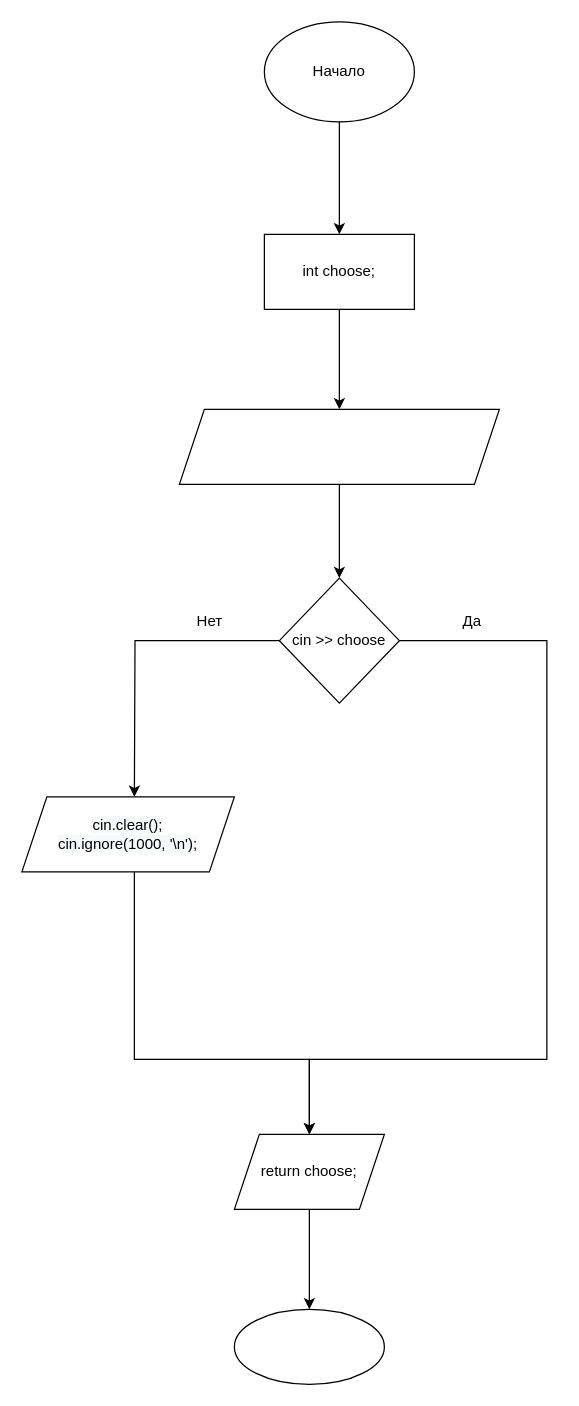
Some shapes in this 579 by 1406 pixel diagram are drawn without their labels. The shapes that lost their labels are listed below. From the top down, each one's box as (x1, y1, x2, y2) in pixels, then its label:
(178, 408, 499, 484): cout << "\n\n\nВведите число от 1 до 7: ";
(233, 1308, 384, 1384): Конец
